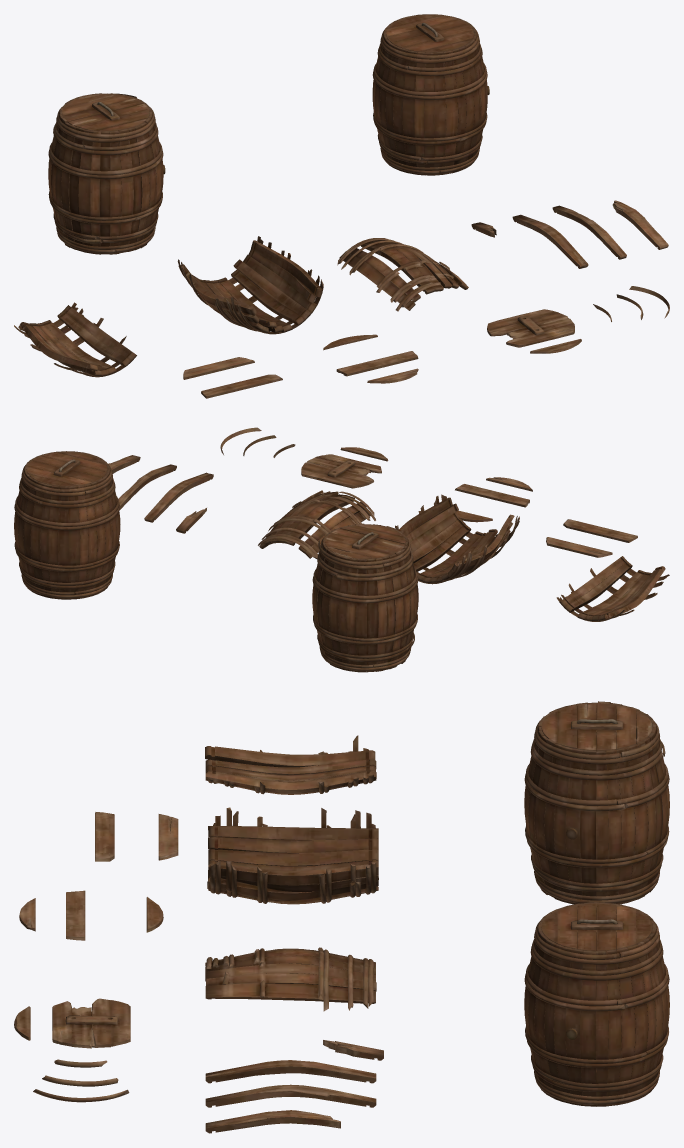
The model's file is wooden-barrels-01.glb.
3 views of the same model, one above another, from view 1: azimuth 30°, elevation 25°; view 2: azimuth 150°, elevation 25°; view 3: azimuth 270°, elevation 25° (orthographic). The views are drawn at different scales.
Visible parts, largest first — view 1: wooden_barrels_01_piece01, wooden_barrels_01_barrel02, wooden_barrels_01_barrel01; view 2: wooden_barrels_01_piece01, wooden_barrels_01_barrel02, wooden_barrels_01_barrel01; view 3: wooden_barrels_01_piece01, wooden_barrels_01_barrel01, wooden_barrels_01_barrel02.
Part boxes in pixels (x1=…): wooden_barrels_01_piece01: x1=14, y1=200, x2=669, y2=398; wooden_barrels_01_barrel02: x1=48, y1=93, x2=165, y2=254; wooden_barrels_01_barrel01: x1=372, y1=14, x2=489, y2=175; wooden_barrels_01_piece01: x1=108, y1=427, x2=669, y2=621; wooden_barrels_01_barrel02: x1=312, y1=523, x2=418, y2=672; wooden_barrels_01_barrel01: x1=14, y1=451, x2=120, y2=599; wooden_barrels_01_piece01: x1=14, y1=735, x2=383, y2=1133; wooden_barrels_01_barrel01: x1=524, y1=902, x2=669, y2=1106; wooden_barrels_01_barrel02: x1=524, y1=701, x2=669, y2=904.
Bounding box in the file's own units: 4.44 × 0.9554 × 3.34.
3 materials, 3 textured.
